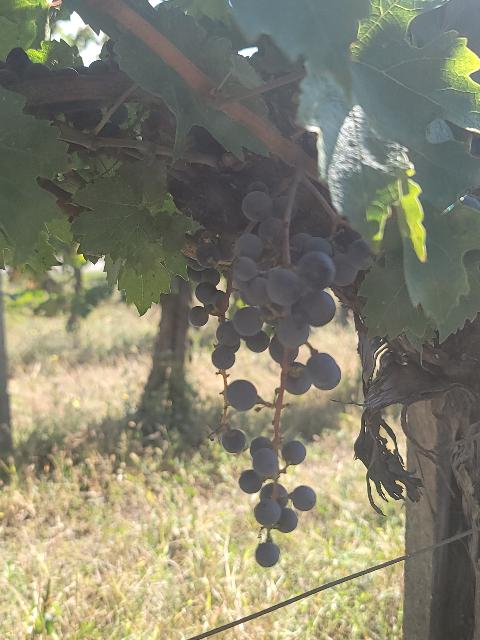grapes: (212, 234, 341, 534)
